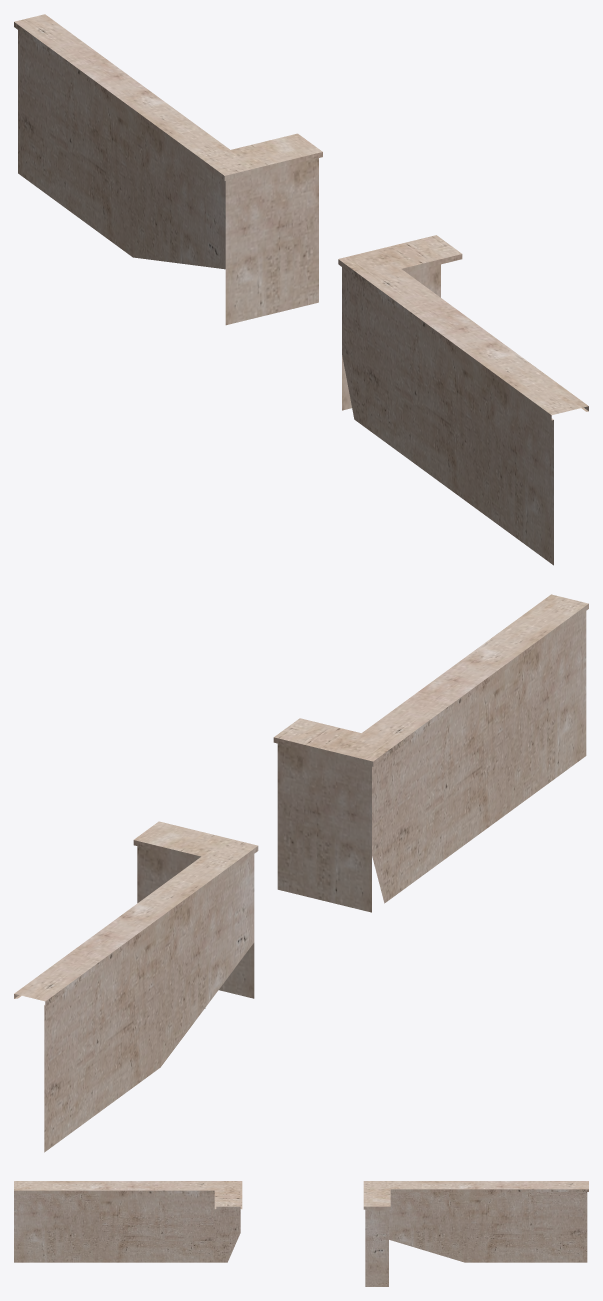
File: kamen_zid_parapet.obj
3 renders of one model, top to bottom at view 1: azimuth 30°, elevation 25°; view 2: azimuth 150°, elevation 25°; view 3: azimuth 270°, elevation 25°, orthographic. The views are drawn at different scales.
Bounding box in the file's own units: 0.79 × 1.16 × 7.48.
